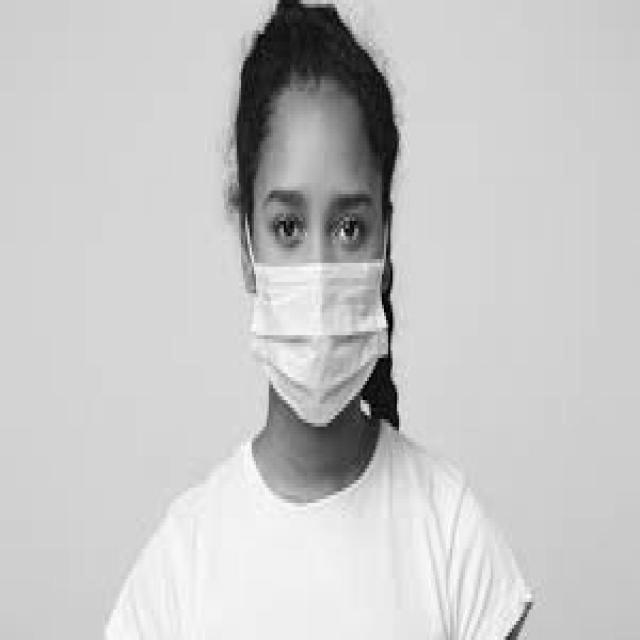fake: (245, 253, 398, 430)
real: (252, 77, 384, 432)
